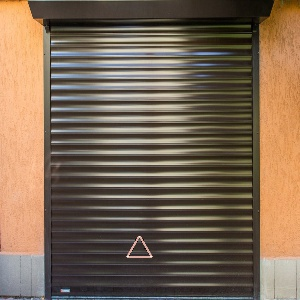triangle: (125, 233, 156, 261)
